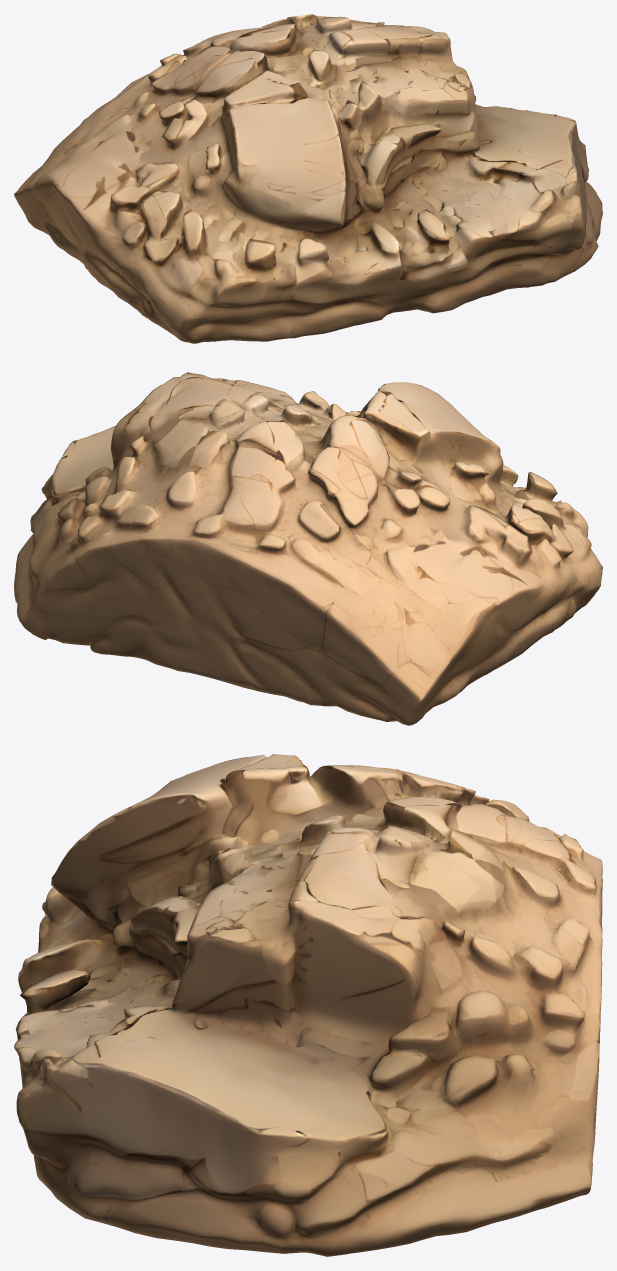
The picture shows the model from 3 angles, top to bottom: view 1: azimuth 30°, elevation 25°; view 2: azimuth 150°, elevation 25°; view 3: azimuth 270°, elevation 25°; orthographic projection. The views are drawn at different scales.
Visible parts, largest first — view 1: model; view 2: model; view 3: model.
Boxes of the visible parts, x1,y1,x2,y2 form: model: [14, 14, 602, 343]; model: [14, 372, 602, 725]; model: [14, 754, 602, 1256].
Size of the model in its own units: 1.8 by 0.7108 by 1.32.
Materials: 1 (1 with a texture image).
